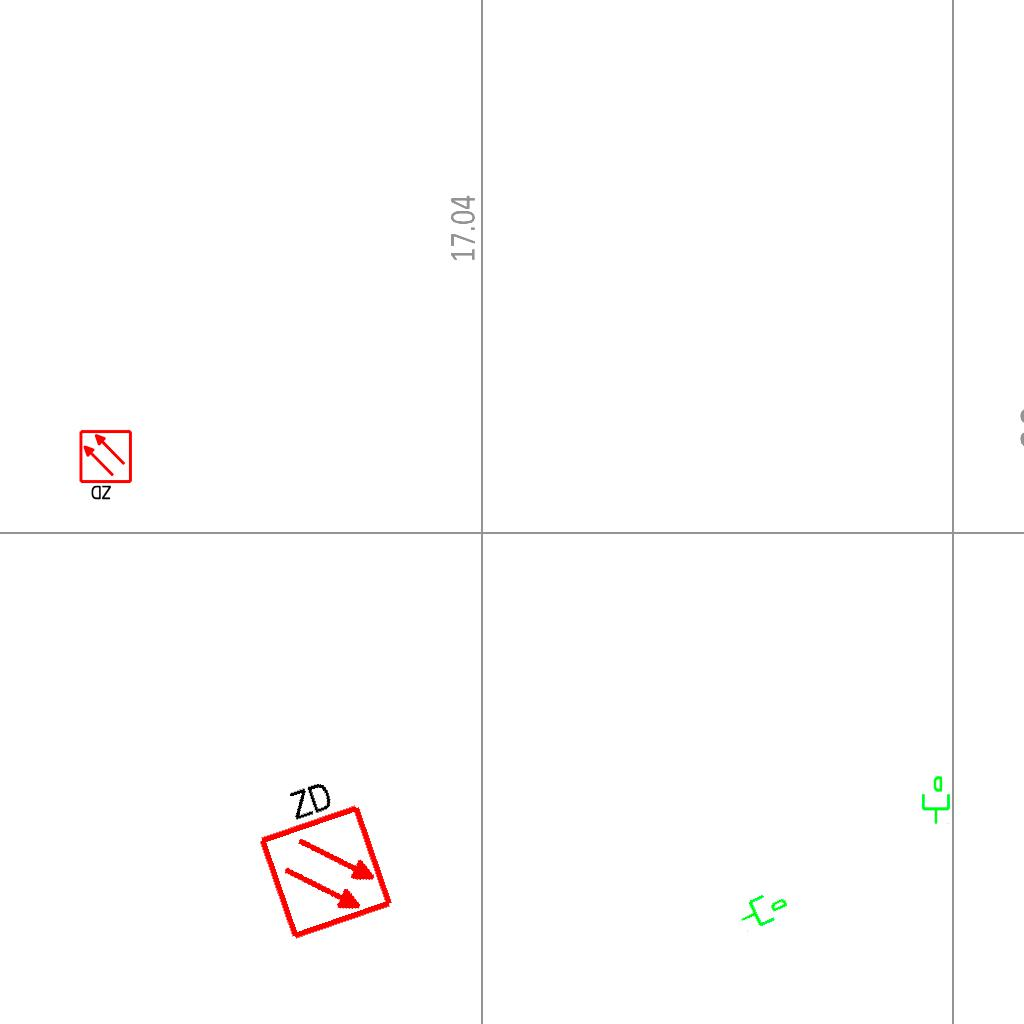Datenanschluss_einfach: (733, 883, 793, 935), (918, 775, 952, 825)
ZD_Melder_in_Zwischendecke_mit_Revisionsoeffnung_mind_40_x_40_cm: (239, 765, 397, 944), (78, 429, 135, 503)
